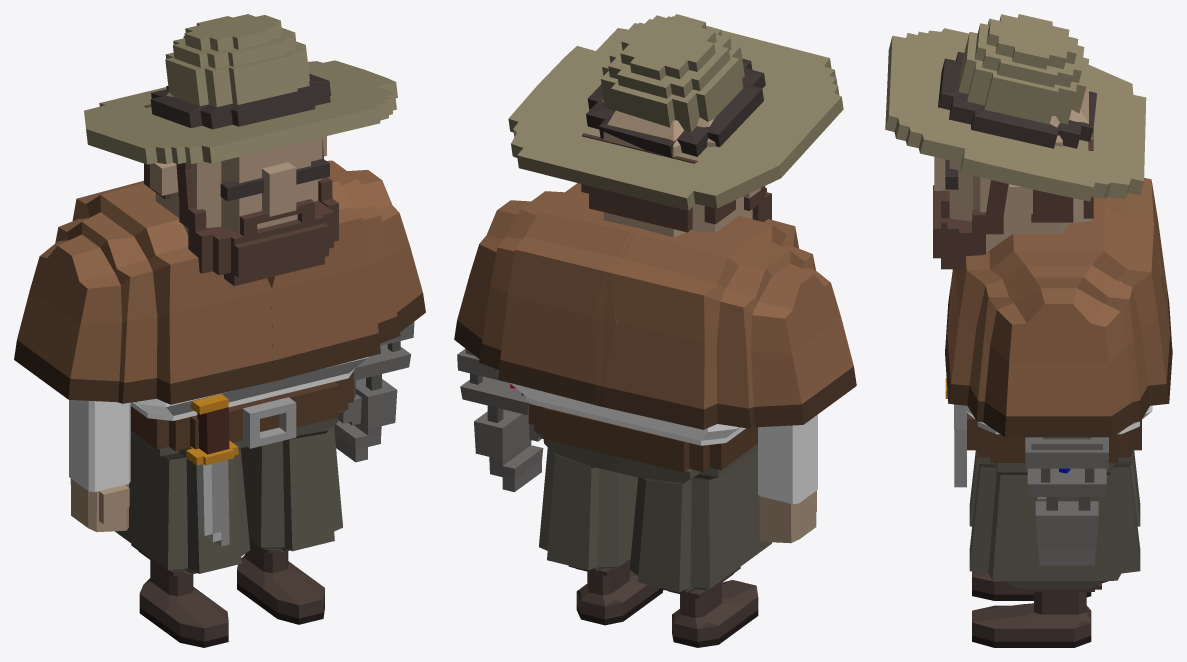
The model's file is player.glb.
The picture shows the model from 3 angles, left to right: view 1: azimuth 30°, elevation 25°; view 2: azimuth 150°, elevation 25°; view 3: azimuth 270°, elevation 25°; orthographic projection. The views are drawn at different scales.
Parts seen in each view (by area): view 1: poncho, Cube.001, Cube.016, leg right, leg left, torso, arm right, arm left, Cube.012, Cube.011, eyes; view 2: poncho, Cube.001, leg right, leg left, torso, Cube.016, arm right, arm left; view 3: poncho, Cube.001, leg left, Cube.016, arm left, torso, leg right, Cube.012.
Boxes of the visible parts, <box> form: poncho: <box>14,160,425,404</box>; Cube.001: <box>84,14,397,164</box>; Cube.016: <box>144,92,338,285</box>; leg right: <box>115,435,250,647</box>; leg left: <box>237,426,342,624</box>; torso: <box>130,357,368,459</box>; arm right: <box>69,400,130,532</box>; arm left: <box>334,322,414,462</box>; Cube.012: <box>186,394,238,546</box>; Cube.011: <box>242,397,296,448</box>; eyes: <box>220,158,329,201</box>; poncho: <box>454,183,856,429</box>; Cube.001: <box>508,14,843,210</box>; leg right: <box>629,448,771,647</box>; leg left: <box>539,447,663,625</box>; torso: <box>510,292,757,484</box>; Cube.016: <box>581,100,771,237</box>; arm right: <box>758,414,817,543</box>; arm left: <box>457,348,543,492</box>; poncho: <box>945,178,1172,437</box>; Cube.001: <box>885,14,1146,201</box>; leg left: <box>969,465,1140,647</box>; Cube.016: <box>933,88,1093,269</box>; arm left: <box>1025,437,1108,565</box>; torso: <box>965,282,1152,474</box>; leg right: <box>969,450,1140,600</box>; Cube.012: <box>945,378,966,487</box>.
Size of the model in its own units: 0.3215 by 0.5097 by 0.2266.
